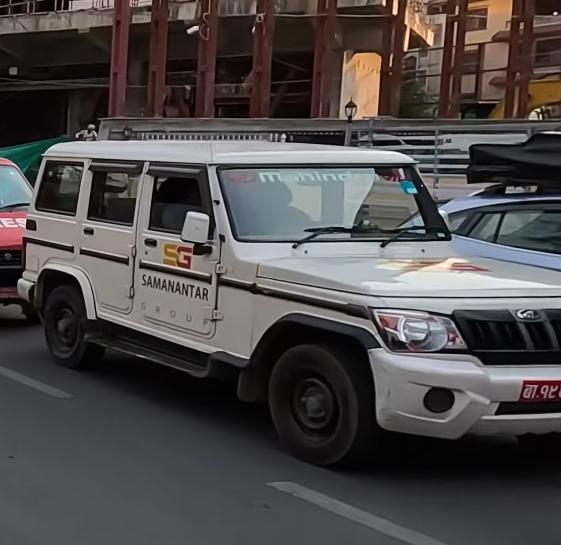SUV: (18, 135, 561, 466)
